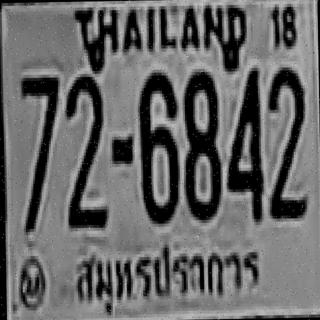N02: (265, 66, 308, 218), (64, 77, 106, 226)
N04: (225, 66, 265, 222)
N06: (138, 70, 178, 222)
N07: (19, 74, 60, 226)
N08: (182, 70, 222, 221)
P57: (66, 238, 262, 306)
